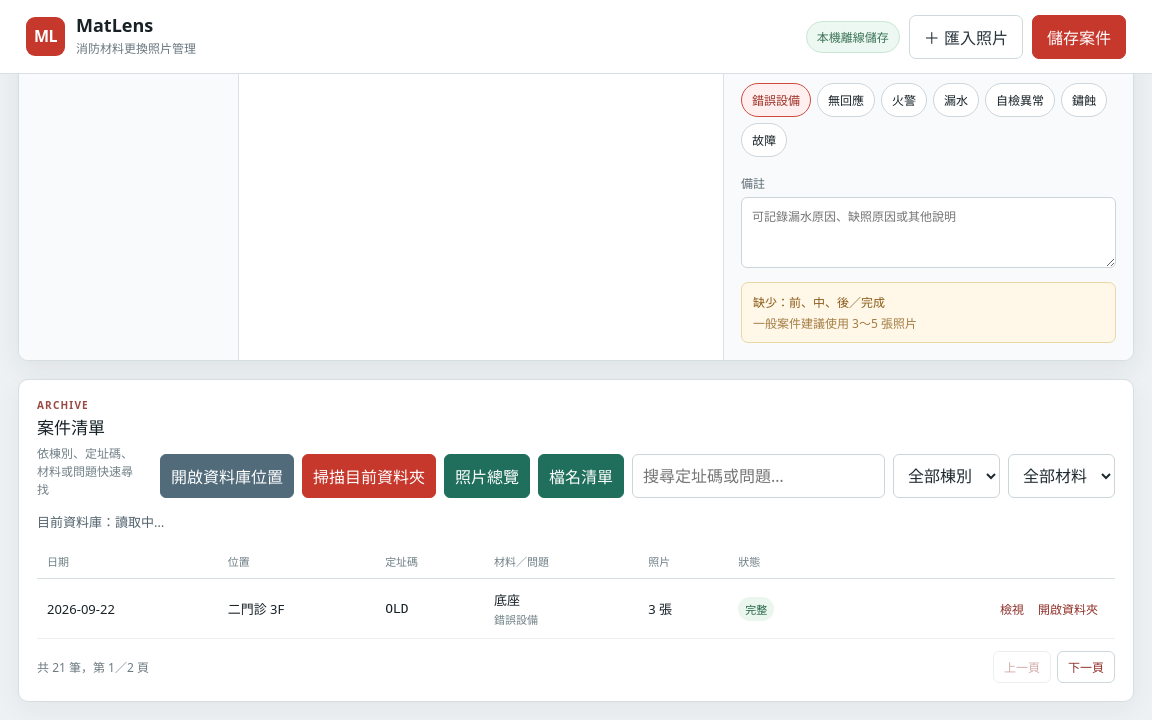
it: 照片拖放 › 案件清單可重新掃描目前資料夾並使用分頁
(page scrolled)
expect the text "共 21 筆，第 1／2 頁" is shown: met, box [37,658,149,676]
What coordinates should you click on to do the following:
click the button "下一頁"
I would click on:
 (1086, 667)
Its box is [1057,651,1115,683].
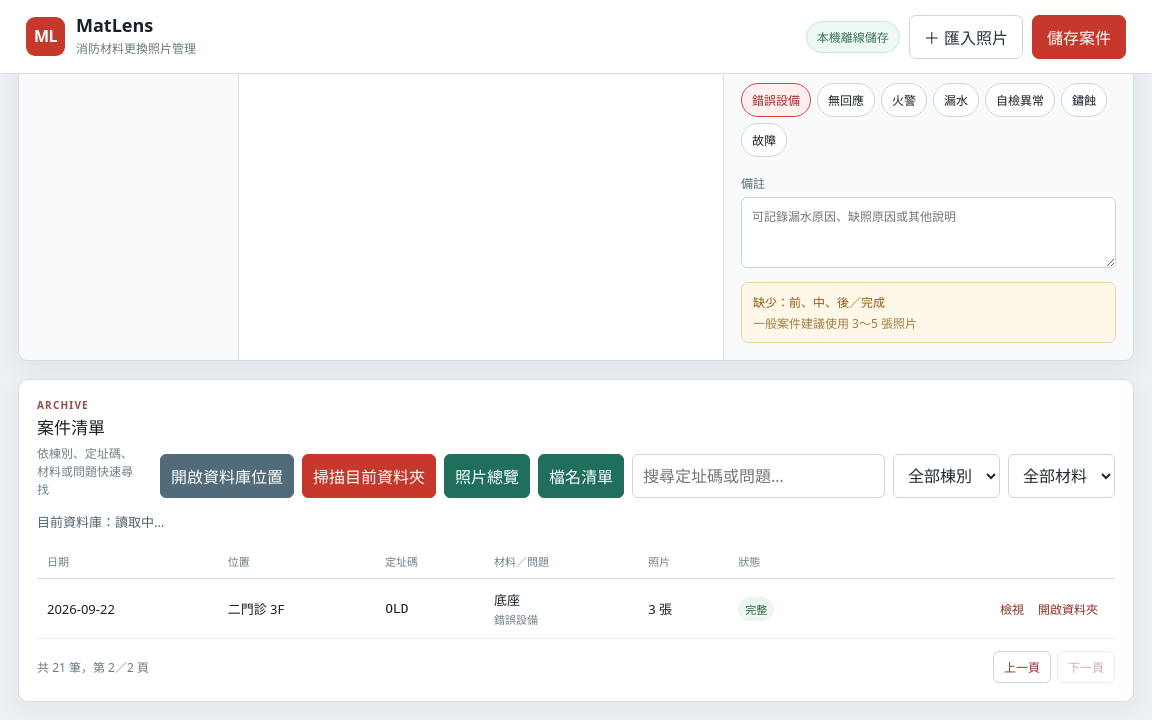
What coordinates should you click on to do the following:
click the button "掃描目前資料夾"
I would click on:
 (369, 476)
Its box is [302,454,436,498].
(page scrolled)
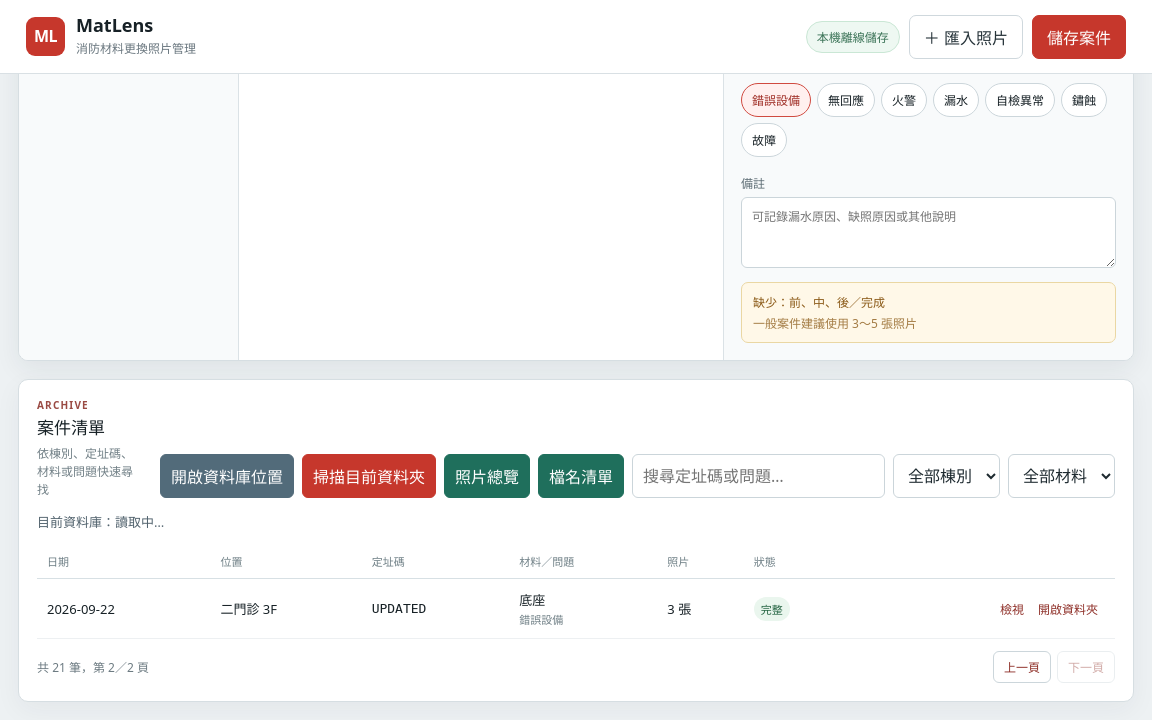
expect the text "UPDATED" is shown: met, box [372,601,426,616]
